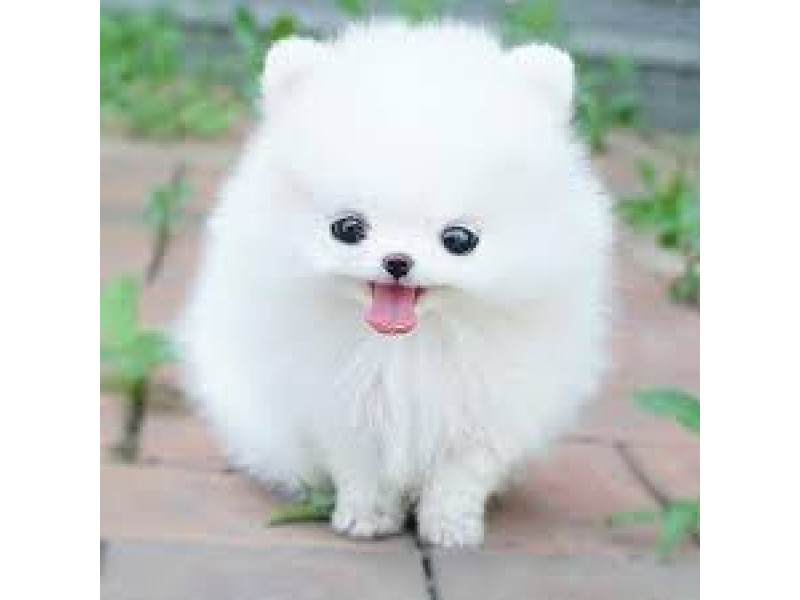pomeranian: (183, 7, 618, 565)
